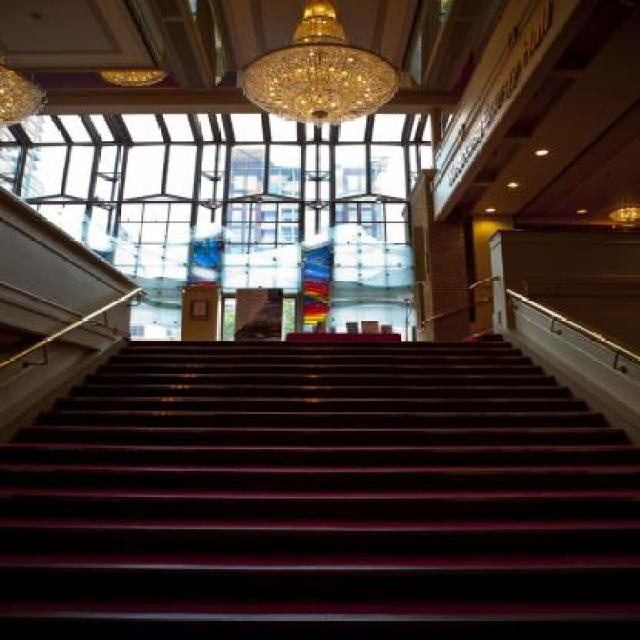stair: (0, 337, 640, 640)
